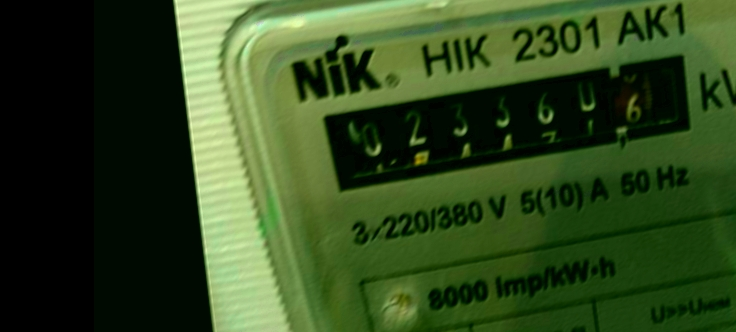0: (356, 117, 386, 162), (573, 77, 600, 116)
2: (399, 106, 430, 149)
3: (446, 99, 471, 141), (487, 92, 513, 132)
6: (529, 87, 559, 130), (622, 90, 647, 128)
screen: (298, 40, 710, 205)
